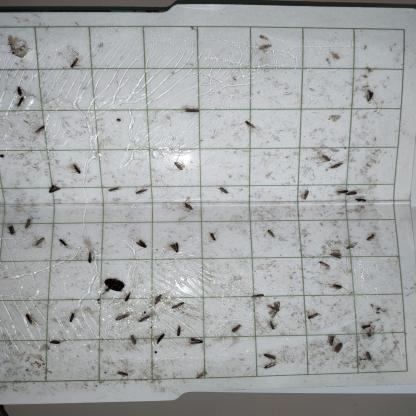prays_oleae: (104, 267, 129, 306), (266, 294, 286, 322), (66, 157, 85, 184), (179, 100, 206, 119), (21, 304, 38, 334), (132, 180, 152, 204), (298, 180, 314, 210), (190, 367, 210, 388), (261, 222, 277, 248), (188, 332, 206, 355), (114, 360, 131, 384), (32, 119, 52, 139), (171, 153, 186, 178), (66, 49, 80, 74), (136, 307, 155, 325), (31, 234, 48, 254), (46, 333, 66, 350), (305, 306, 322, 326), (316, 252, 330, 276), (242, 113, 257, 135), (327, 278, 344, 297), (66, 304, 77, 332), (7, 219, 20, 242), (106, 180, 122, 198), (170, 320, 186, 338), (182, 200, 196, 220), (148, 332, 168, 346), (135, 232, 150, 250), (168, 238, 182, 257), (326, 327, 337, 351), (329, 249, 344, 266), (58, 233, 70, 254), (229, 319, 243, 337), (207, 227, 219, 248), (252, 284, 263, 306), (126, 332, 138, 352), (85, 244, 95, 268), (173, 296, 188, 312), (330, 157, 345, 173), (114, 310, 131, 324), (23, 216, 34, 236), (151, 292, 164, 308), (362, 348, 374, 365), (366, 228, 376, 248), (218, 183, 230, 199), (262, 358, 278, 370), (15, 83, 25, 102), (267, 320, 278, 337), (261, 350, 278, 361), (347, 237, 358, 253), (354, 194, 368, 206), (333, 186, 347, 198), (323, 146, 330, 169), (15, 98, 26, 112), (124, 290, 133, 305), (348, 186, 358, 199)
